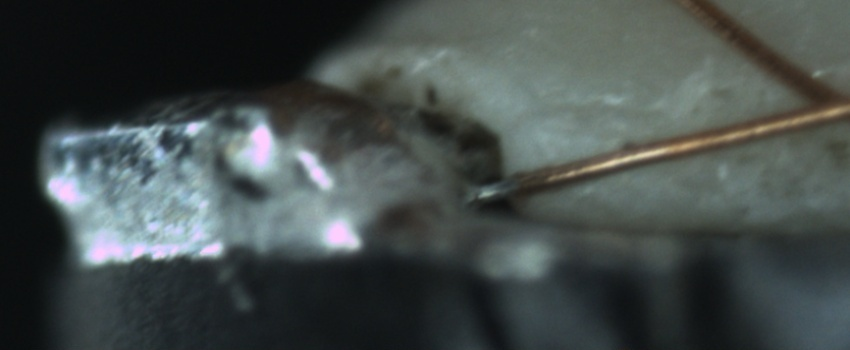CL: (763, 48, 846, 131)
DL: (535, 80, 668, 147)
TS: (468, 174, 518, 204)
